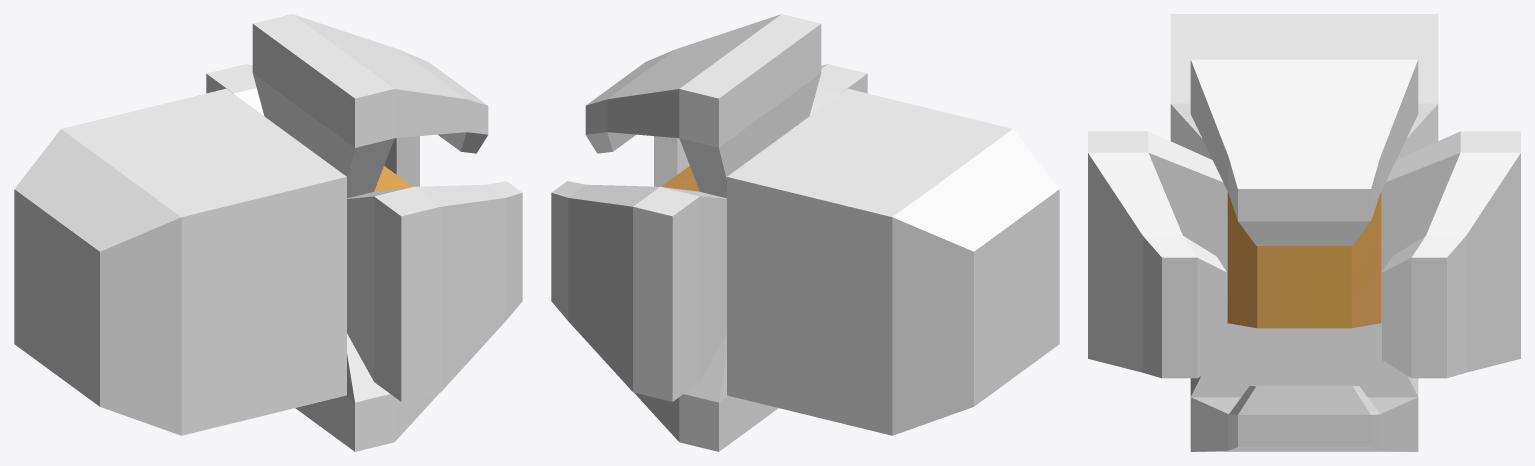
The model's file is CHAHIN_POPCORN_KERNEL.obj.
3 renders of one model, left to right at view 1: azimuth 30°, elevation 25°; view 2: azimuth 150°, elevation 25°; view 3: azimuth 270°, elevation 25°, orthographic. The views are drawn at different scales.
Parts seen in each view (by area): view 1: Cube.020_Cube.030; view 2: Cube.020_Cube.030; view 3: Cube.020_Cube.030.
Boxes of the visible parts, x1,y1,x2,y2 form: Cube.020_Cube.030: [14, 14, 522, 451]; Cube.020_Cube.030: [551, 14, 1059, 451]; Cube.020_Cube.030: [1088, 14, 1520, 451].
Size of the model in its own units: 0.2001 by 0.1684 by 0.1684.
